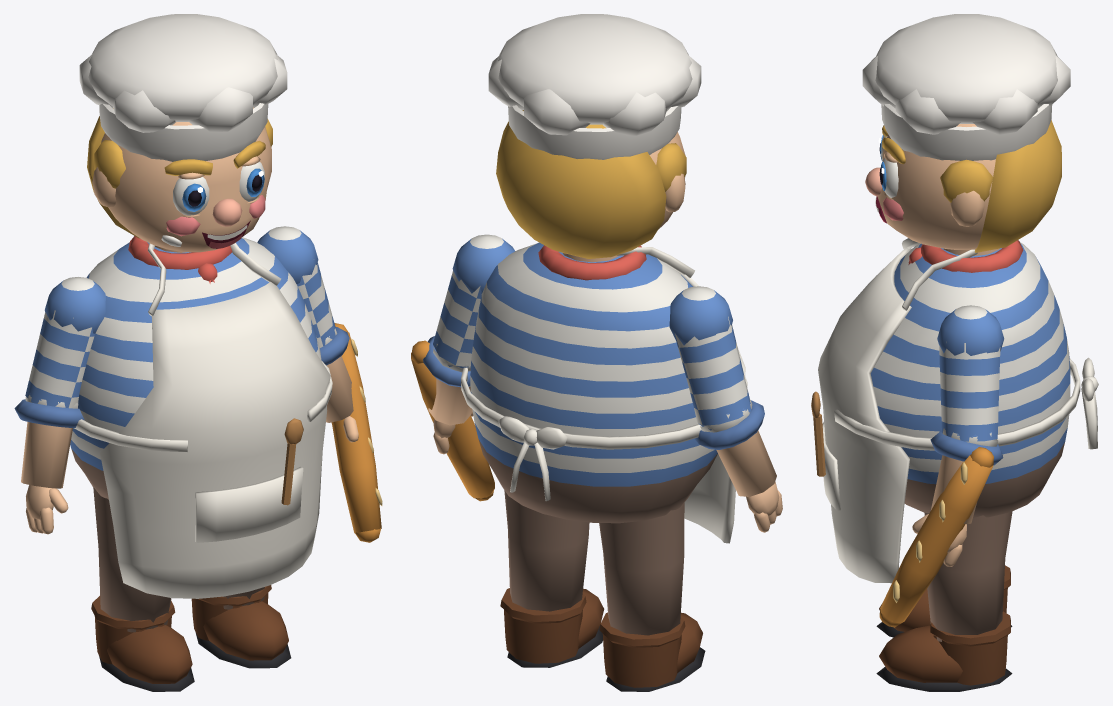
File: npc_villager_a.glb
3 renders of one model, left to right at view 1: azimuth 30°, elevation 25°; view 2: azimuth 150°, elevation 25°; view 3: azimuth 270°, elevation 25°, orthographic. The views are drawn at different scales.
Visible parts, largest first — view 1: Body, Head, ArmR, ArmL; view 2: Body, Head, ArmR, ArmL; view 3: Body, Head, ArmL.
Boxes of the visible parts, left/top/right/bottom form: Body: left=70, top=236, right=332, bottom=691; Head: left=79, top=14, right=287, bottom=252; ArmR: left=14, top=277, right=105, bottom=534; ArmL: left=257, top=226, right=382, bottom=542; Body: left=461, top=242, right=747, bottom=691; Head: left=488, top=14, right=701, bottom=258; ArmR: left=669, top=286, right=782, bottom=532; ArmL: left=411, top=234, right=514, bottom=501; Body: left=811, top=238, right=1098, bottom=691; Head: left=862, top=14, right=1070, bottom=252; ArmL: left=879, top=305, right=1004, bottom=627.
Bounding box in the file's own units: 0.9901 × 1.73 × 0.7199.
